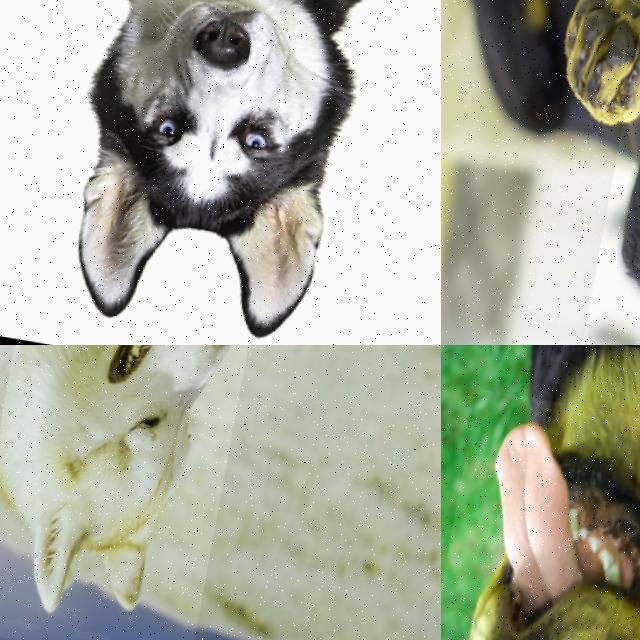husky: (3, 0, 417, 345), (0, 345, 277, 640)
rottweiler: (441, 383, 640, 640), (587, 0, 640, 345)
